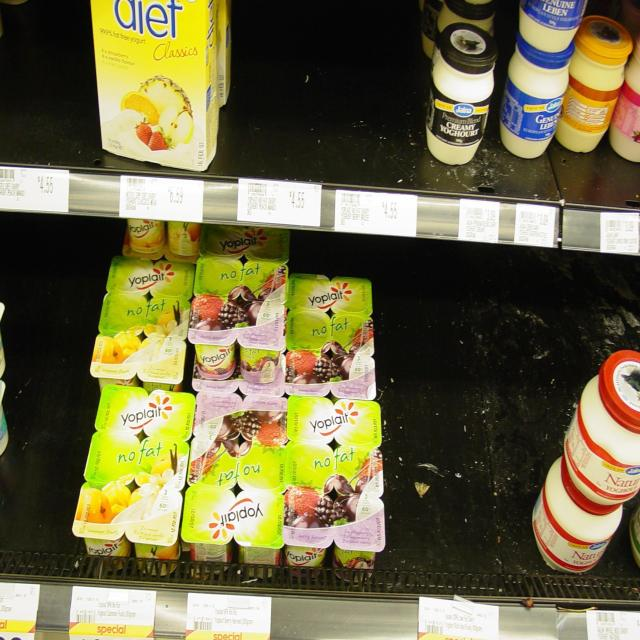empty_space: (404, 288, 523, 570), (245, 10, 420, 164), (20, 272, 80, 497), (0, 7, 87, 145)
